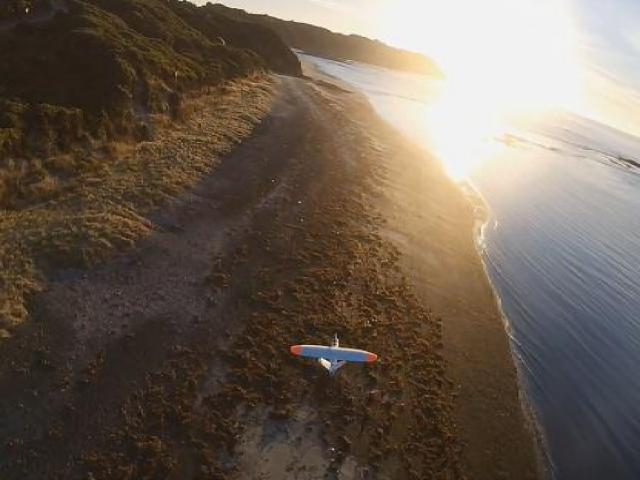uav: (287, 335, 381, 376)
